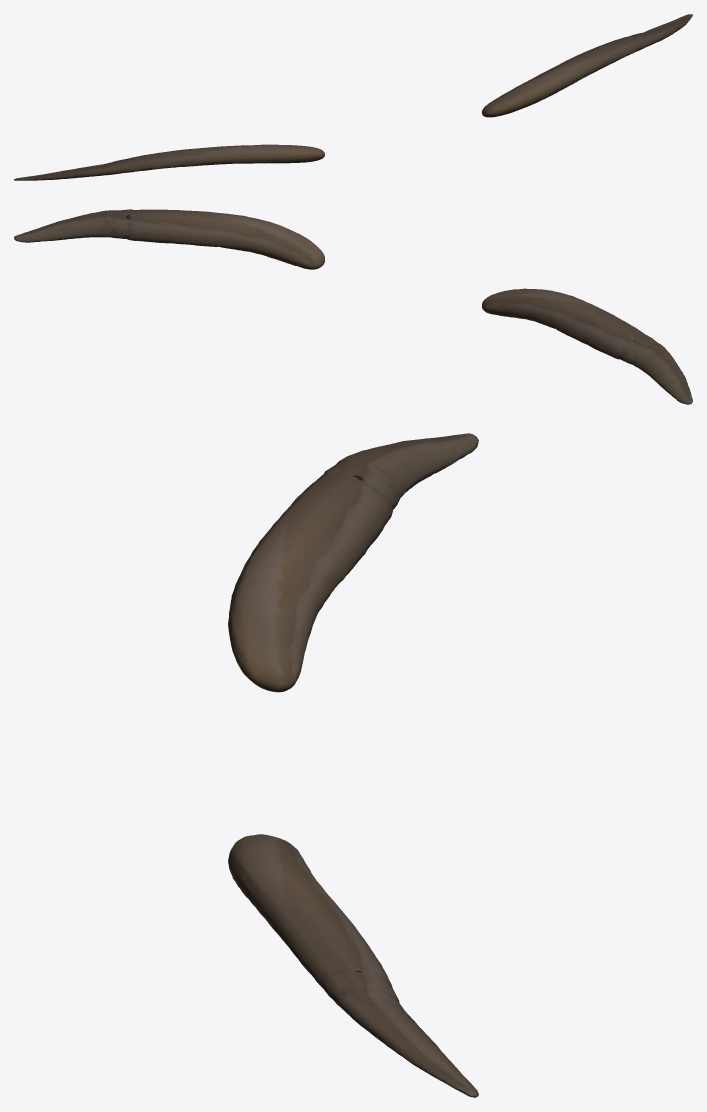
The model's file is eyebrow_thin.fbx.
3 renders of one model, top to bottom at view 1: azimuth 30°, elevation 25°; view 2: azimuth 150°, elevation 25°; view 3: azimuth 270°, elevation 25°, orthographic. The views are drawn at different scales.
Visible parts, largest first — view 1: material_0.007, material_0.008; view 2: material_0.008, material_0.007; view 3: material_0.007, material_0.008.
Boxes of the visible parts, x1=… form: material_0.007: x1=14, y1=144, x2=324, y2=180; material_0.008: x1=482, y1=14, x2=692, y2=117; material_0.008: x1=14, y1=209, x2=324, y2=269; material_0.007: x1=482, y1=288, x2=692, y2=404; material_0.007: x1=228, y1=433, x2=478, y2=692; material_0.008: x1=228, y1=834, x2=478, y2=1097.
Bounding box in the file's own units: 30.43 × 1.31 × 4.88.
Materials: 2 (2 with a texture image).
